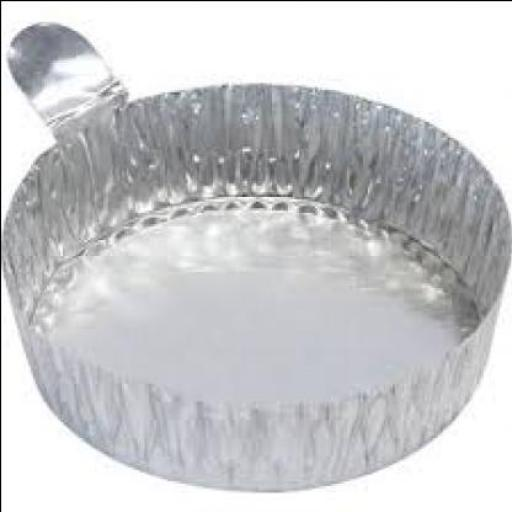metal: (2, 19, 511, 486)
